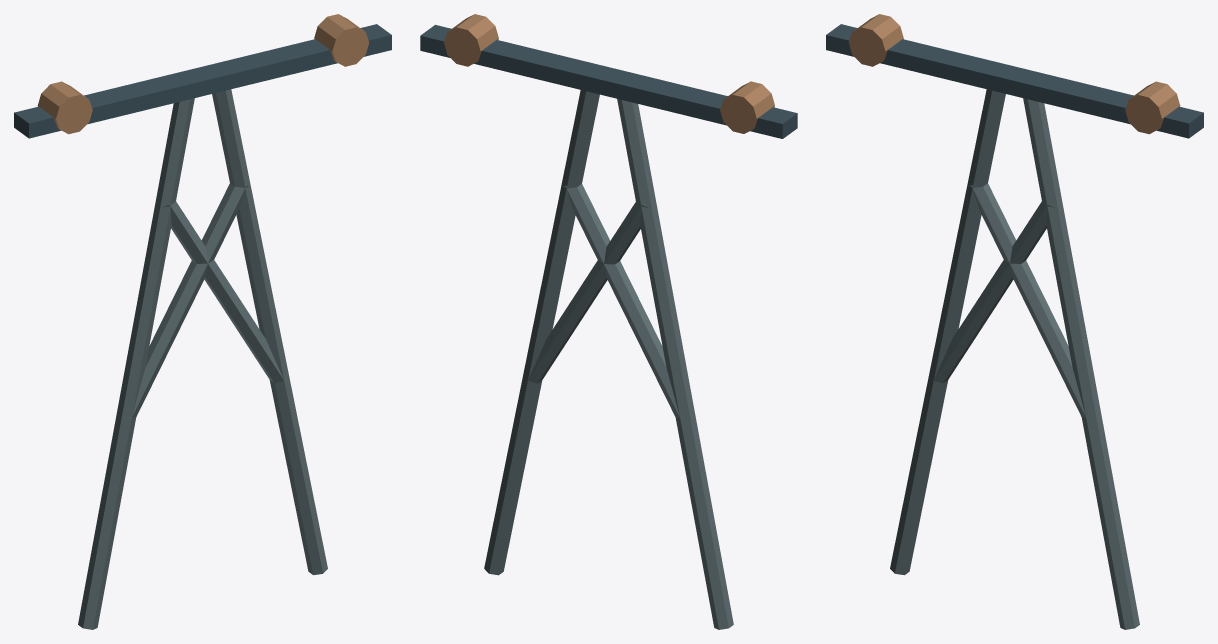
The model's file is cable-tower.glb.
The picture shows the model from 3 angles, left to right: view 1: azimuth 30°, elevation 25°; view 2: azimuth 150°, elevation 25°; view 3: azimuth 330°, elevation 25°; orthographic projection.
Parts seen in each view (by area): view 1: cable-tower; view 2: cable-tower; view 3: cable-tower.
Boxes of the visible parts, left/top/right/bottom form: cable-tower: left=14, top=14, right=391, bottom=629; cable-tower: left=420, top=14, right=797, bottom=629; cable-tower: left=826, top=14, right=1203, bottom=629.
Bounding box in the file's own units: 6.3 × 9.03 × 0.55.
